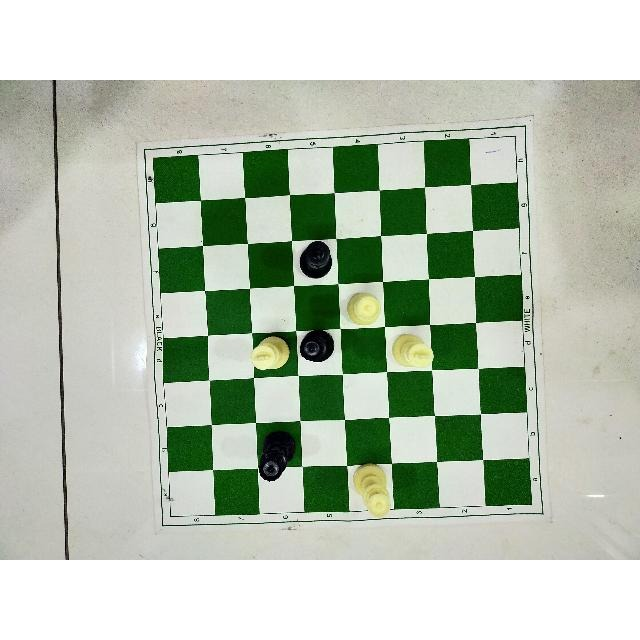black-king: (294, 240, 338, 280)
black-queen: (257, 428, 295, 483), (299, 325, 335, 365)
white-king: (390, 332, 435, 370), (250, 336, 292, 372)
white-queen: (352, 460, 394, 518), (346, 292, 384, 331)
